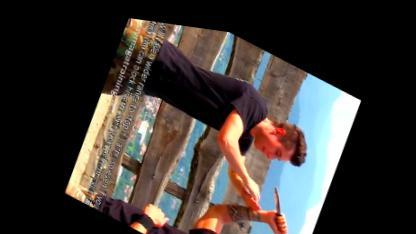knife: (254, 172, 303, 234)
